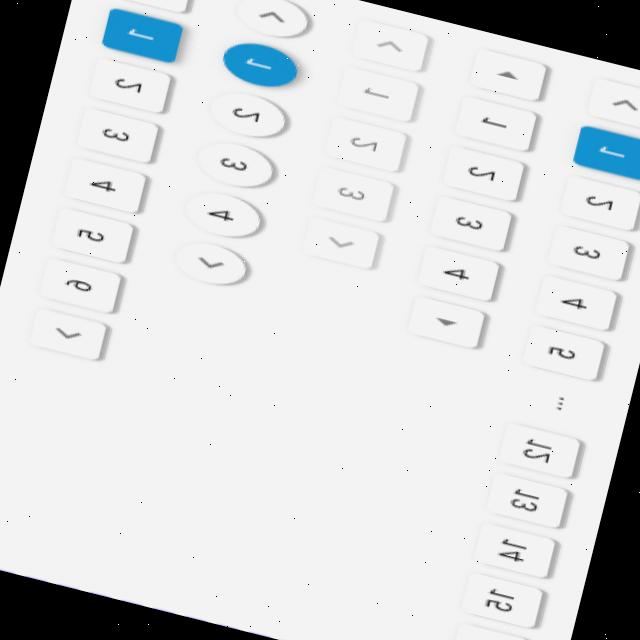VPagination: (443, 73, 640, 640), (25, 0, 199, 364), (164, 0, 316, 294), (404, 46, 550, 352), (294, 14, 437, 276)
